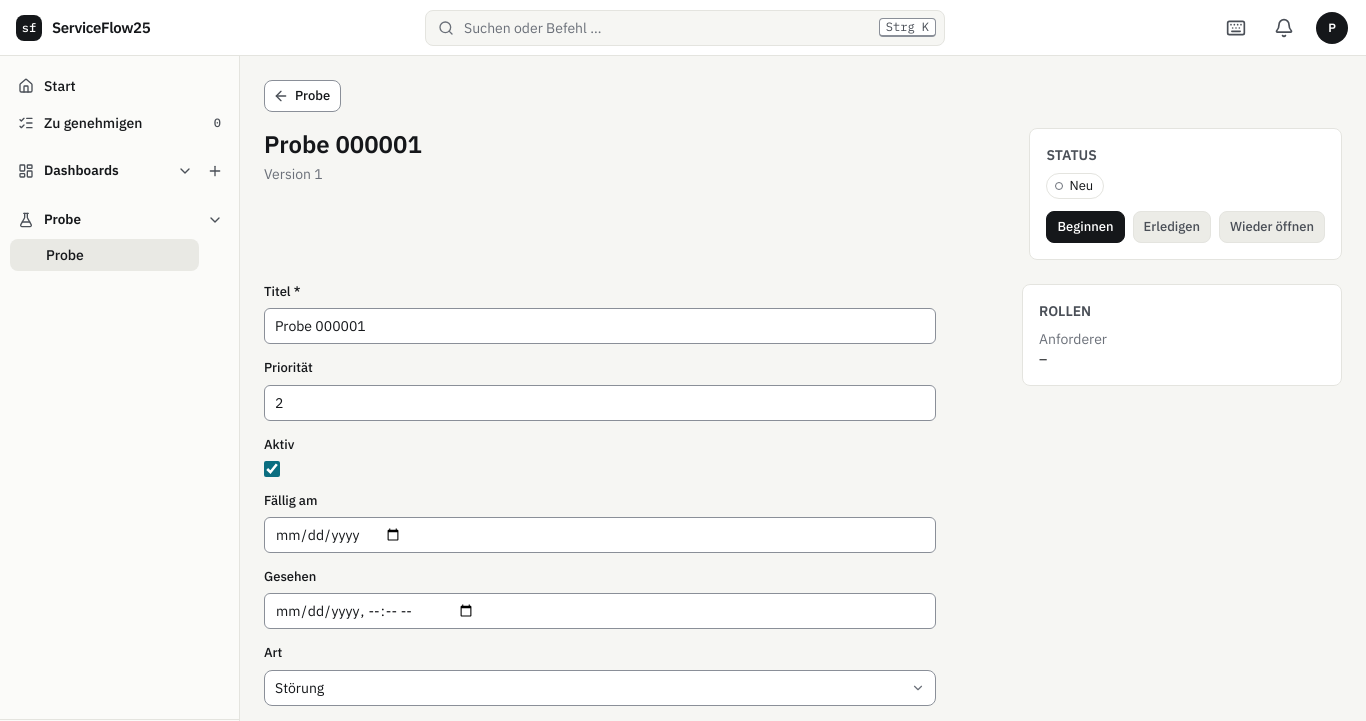
Test: Transitions › shows the server's refusal
Click the button "Beginnen" at (1086, 227), box [1046,211,1125,243]
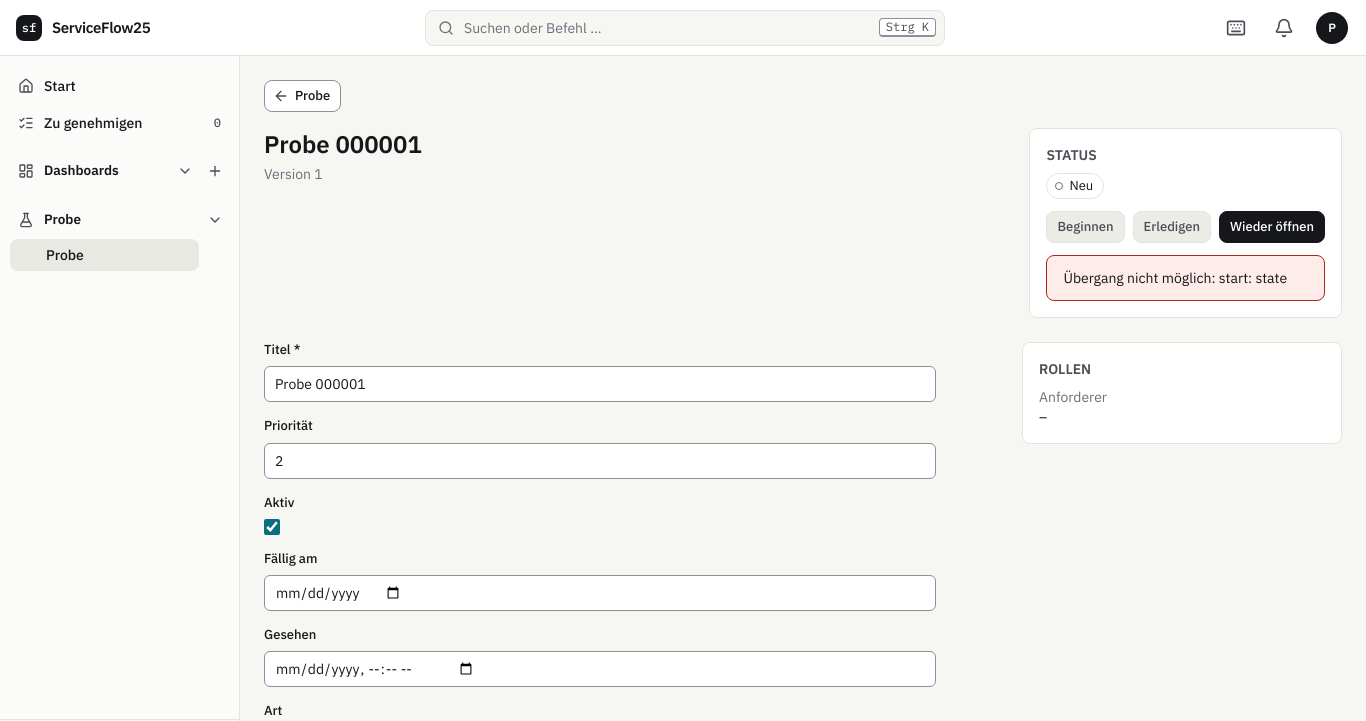
Expected: the message reads "Übergang nicht möglich: start: state", [1064,269,1287,287]
Expected: the button "Beginnen" is disabled, [1046,211,1125,243]
